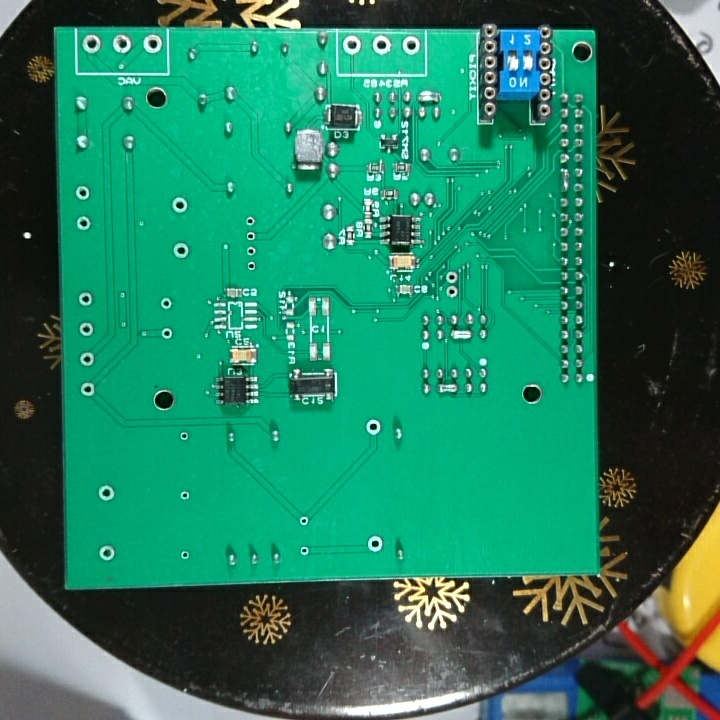F: (368, 33, 394, 57), (80, 31, 104, 55), (111, 32, 133, 55), (171, 239, 191, 264), (399, 35, 421, 57), (341, 34, 362, 56), (141, 33, 162, 55), (74, 212, 94, 235), (170, 195, 191, 216), (365, 535, 385, 556), (97, 483, 117, 503), (363, 418, 385, 436), (97, 543, 117, 562), (75, 290, 94, 310), (77, 320, 96, 339), (77, 381, 97, 399), (77, 351, 97, 368), (73, 183, 91, 201), (157, 294, 174, 313), (443, 269, 462, 285), (296, 513, 312, 530), (444, 284, 460, 300), (297, 543, 312, 558), (243, 229, 258, 244), (244, 243, 260, 257), (242, 214, 258, 228), (179, 548, 194, 562), (178, 488, 191, 504), (159, 326, 173, 340), (178, 428, 191, 443), (244, 260, 257, 273)
P: (447, 326, 475, 346), (416, 89, 442, 104), (434, 383, 458, 398), (558, 166, 571, 193)
